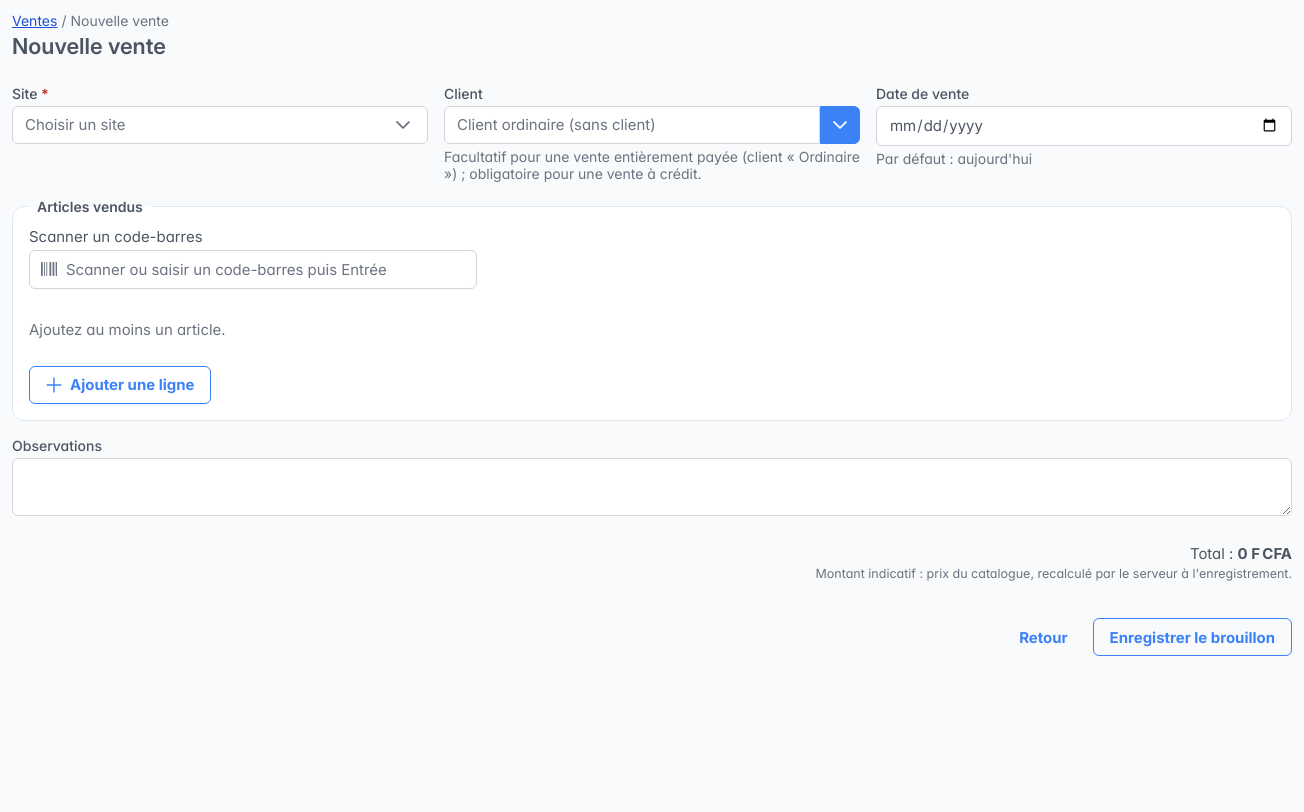
Test case: saisie et consultation d’une vente › nouvelle vente : site obligatoire, client facultatif, au moins un article
Expected: the heading "Nouvelle vente" is shown, [12, 33, 169, 60]
Expected: the dropdown with placeholder "Client ordinaire (sans client)" is shown, [444, 106, 820, 144]
Click the button "Enregistrer le brouillon" at (1192, 637), box [1093, 618, 1292, 656]
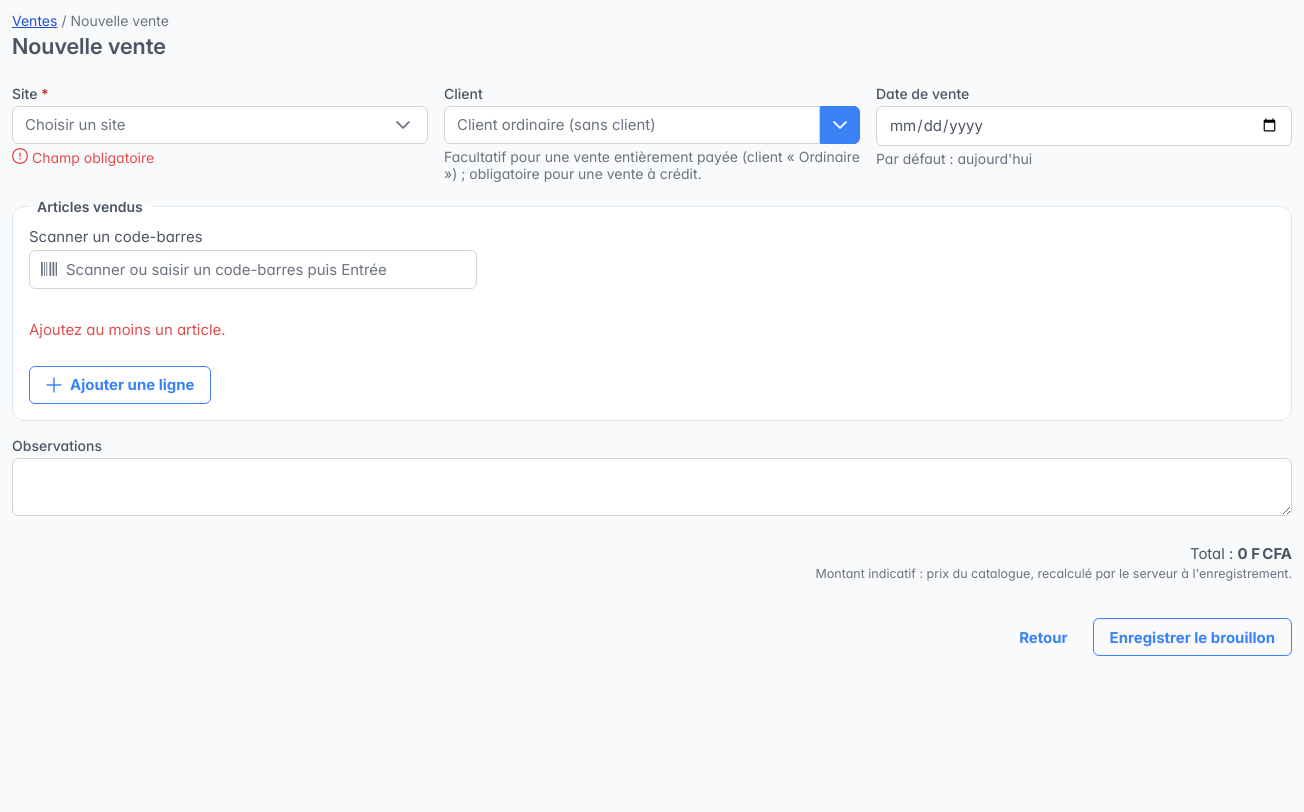
Expected: the text "Champ obligatoire" is shown, [12, 148, 154, 166]
Note: Ligne ajoutée sans article : refusée avant tout envoi.
Click the button "Ajouter une ligne" at (120, 385), box [29, 366, 211, 404]
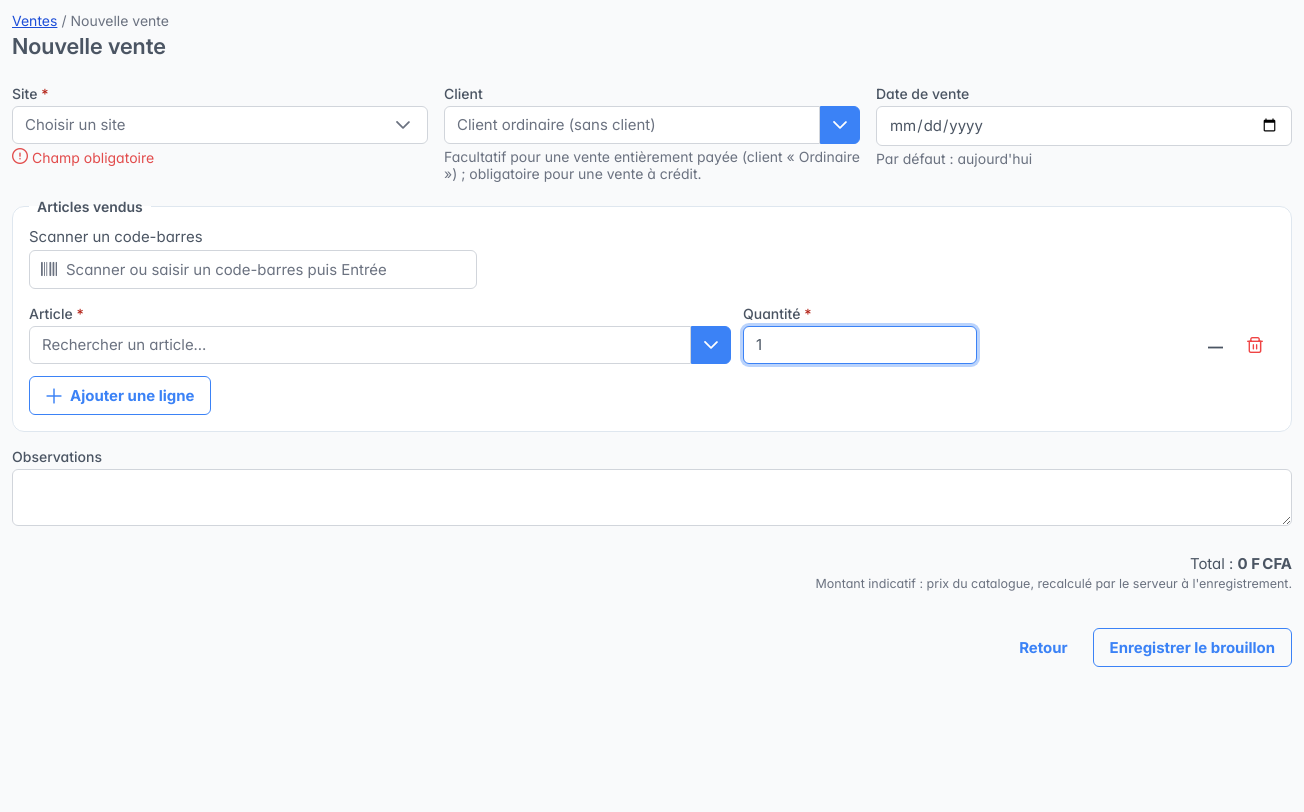
Click the button "Enregistrer le brouillon" at (1192, 648), box [1093, 628, 1292, 667]
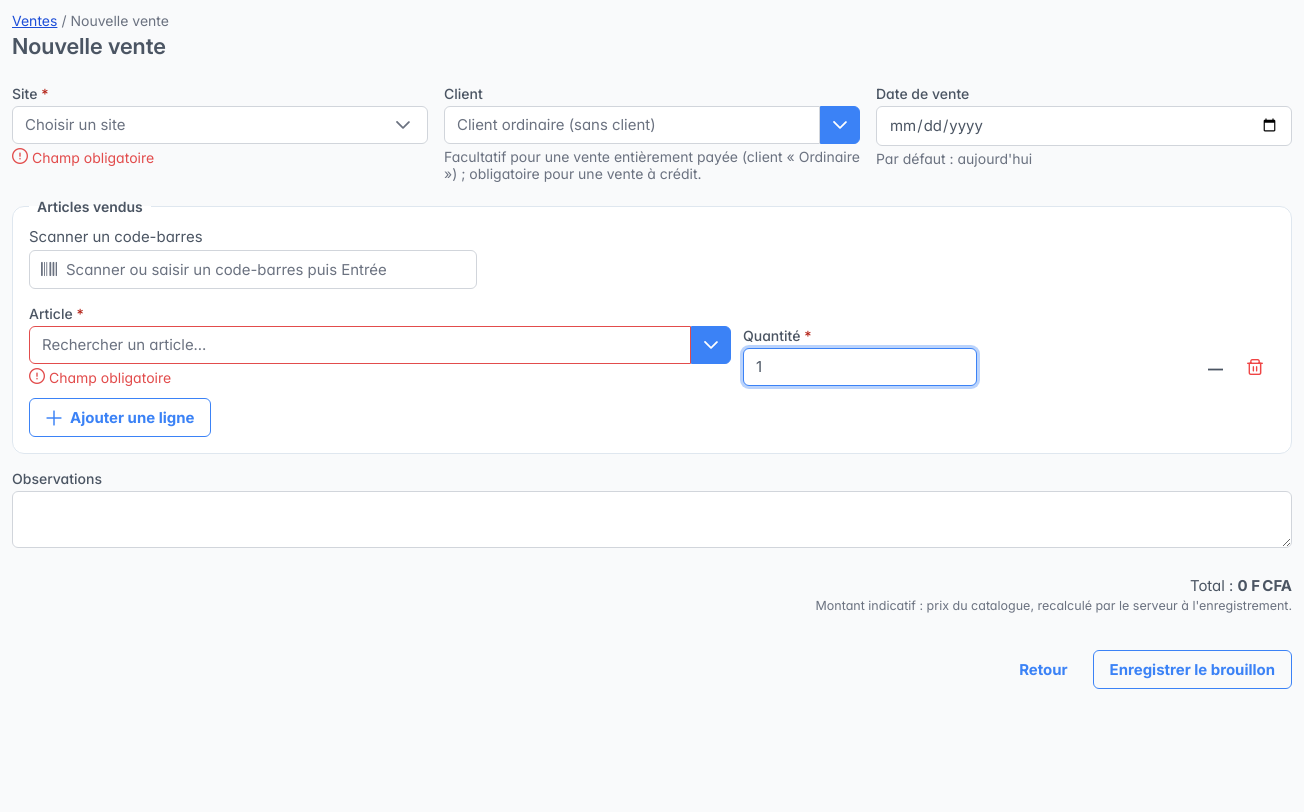
Expected: the text "Champ obligatoire" is shown 2 times, [12, 148, 154, 166]; [29, 368, 171, 386]
